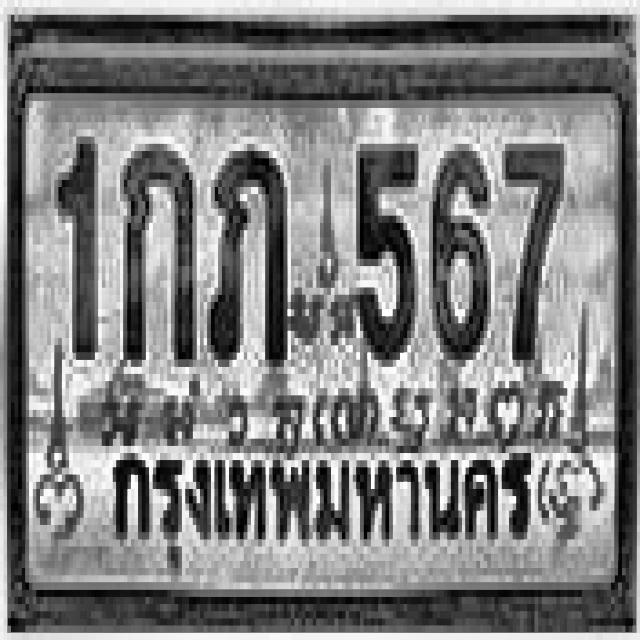license-plate: (14, 36, 626, 622)
